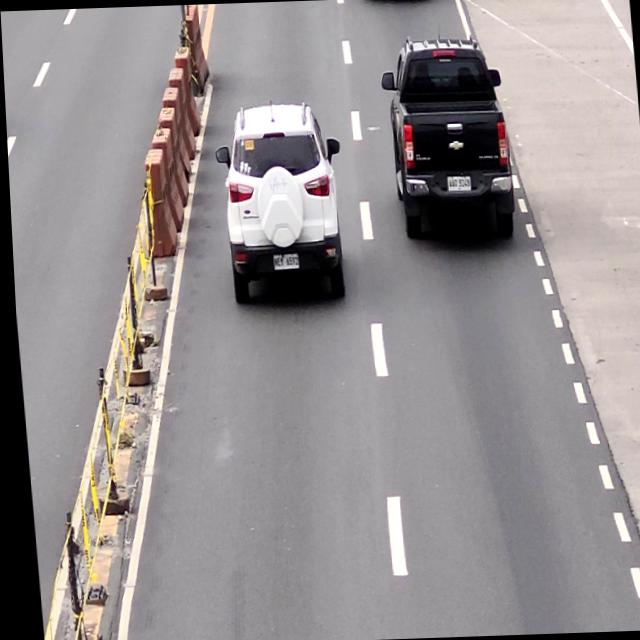Car: (376, 32, 516, 244), (210, 101, 347, 305)
License-Plate: (269, 253, 296, 270), (445, 176, 469, 192)
